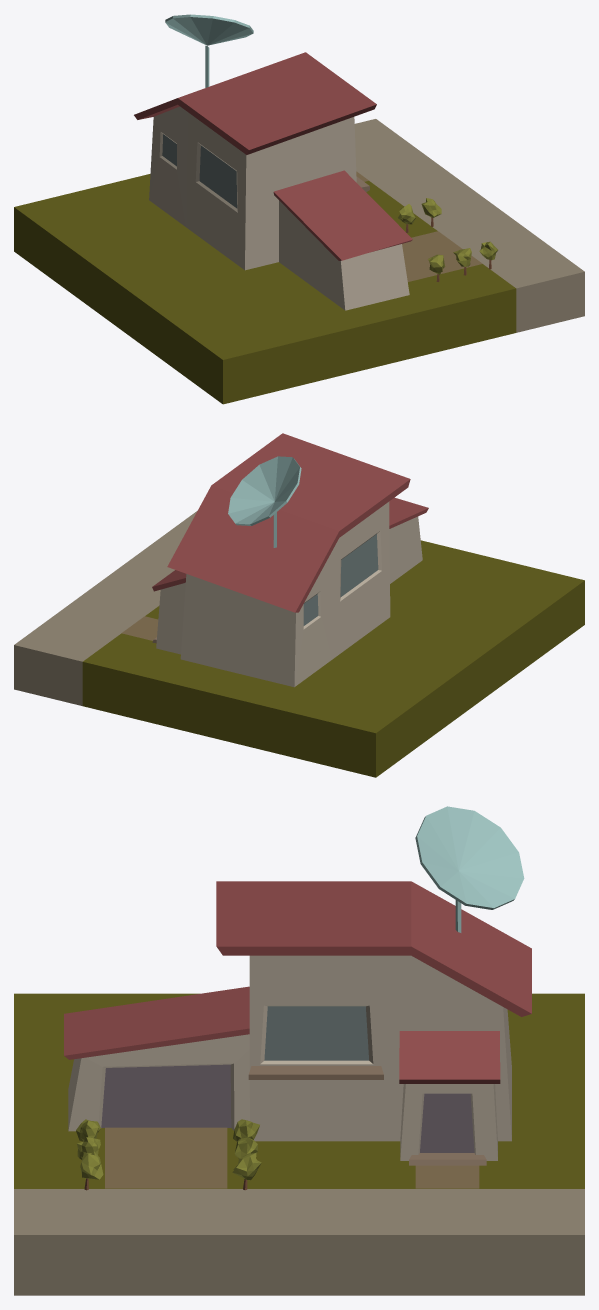
File: Casa 02.fbx
The picture shows the model from 3 angles, top to bottom: view 1: azimuth 30°, elevation 25°; view 2: azimuth 150°, elevation 25°; view 3: azimuth 270°, elevation 25°; orthographic projection. The views are drawn at different scales.
Visible parts, largest first — view 1: Casa 02; view 2: Casa 02; view 3: Casa 02.
Part boxes in pixels (box(x1,y1,x2,y2)): Casa 02: box(14, 14, 584, 404); Casa 02: box(14, 433, 584, 777); Casa 02: box(14, 806, 584, 1295).
Size of the model in its own units: 200 by 129 by 200.
